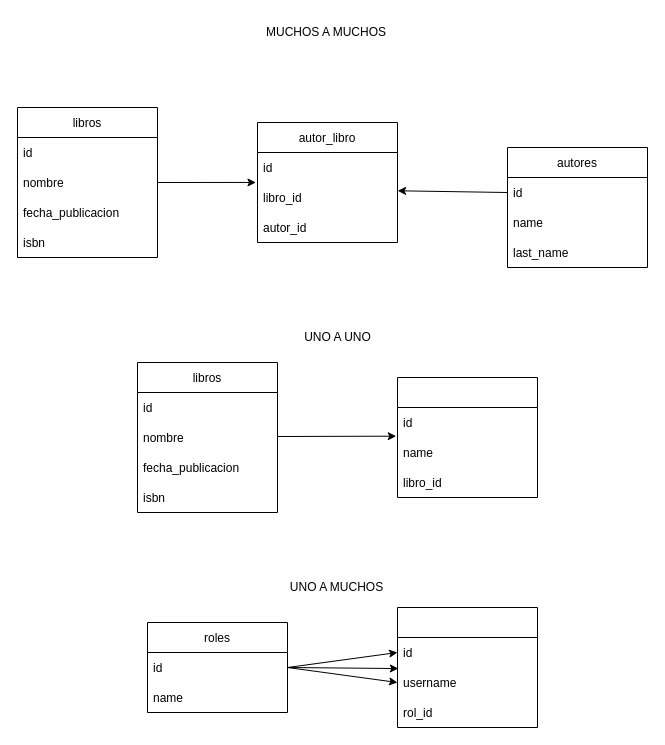
The diagram is 665 pixels wide and 745 high, and some of its shapes have lost their labels. Each missing label, with the box of its shape:
editoriales: (396, 376, 538, 498)
usuarios: (396, 606, 538, 728)
